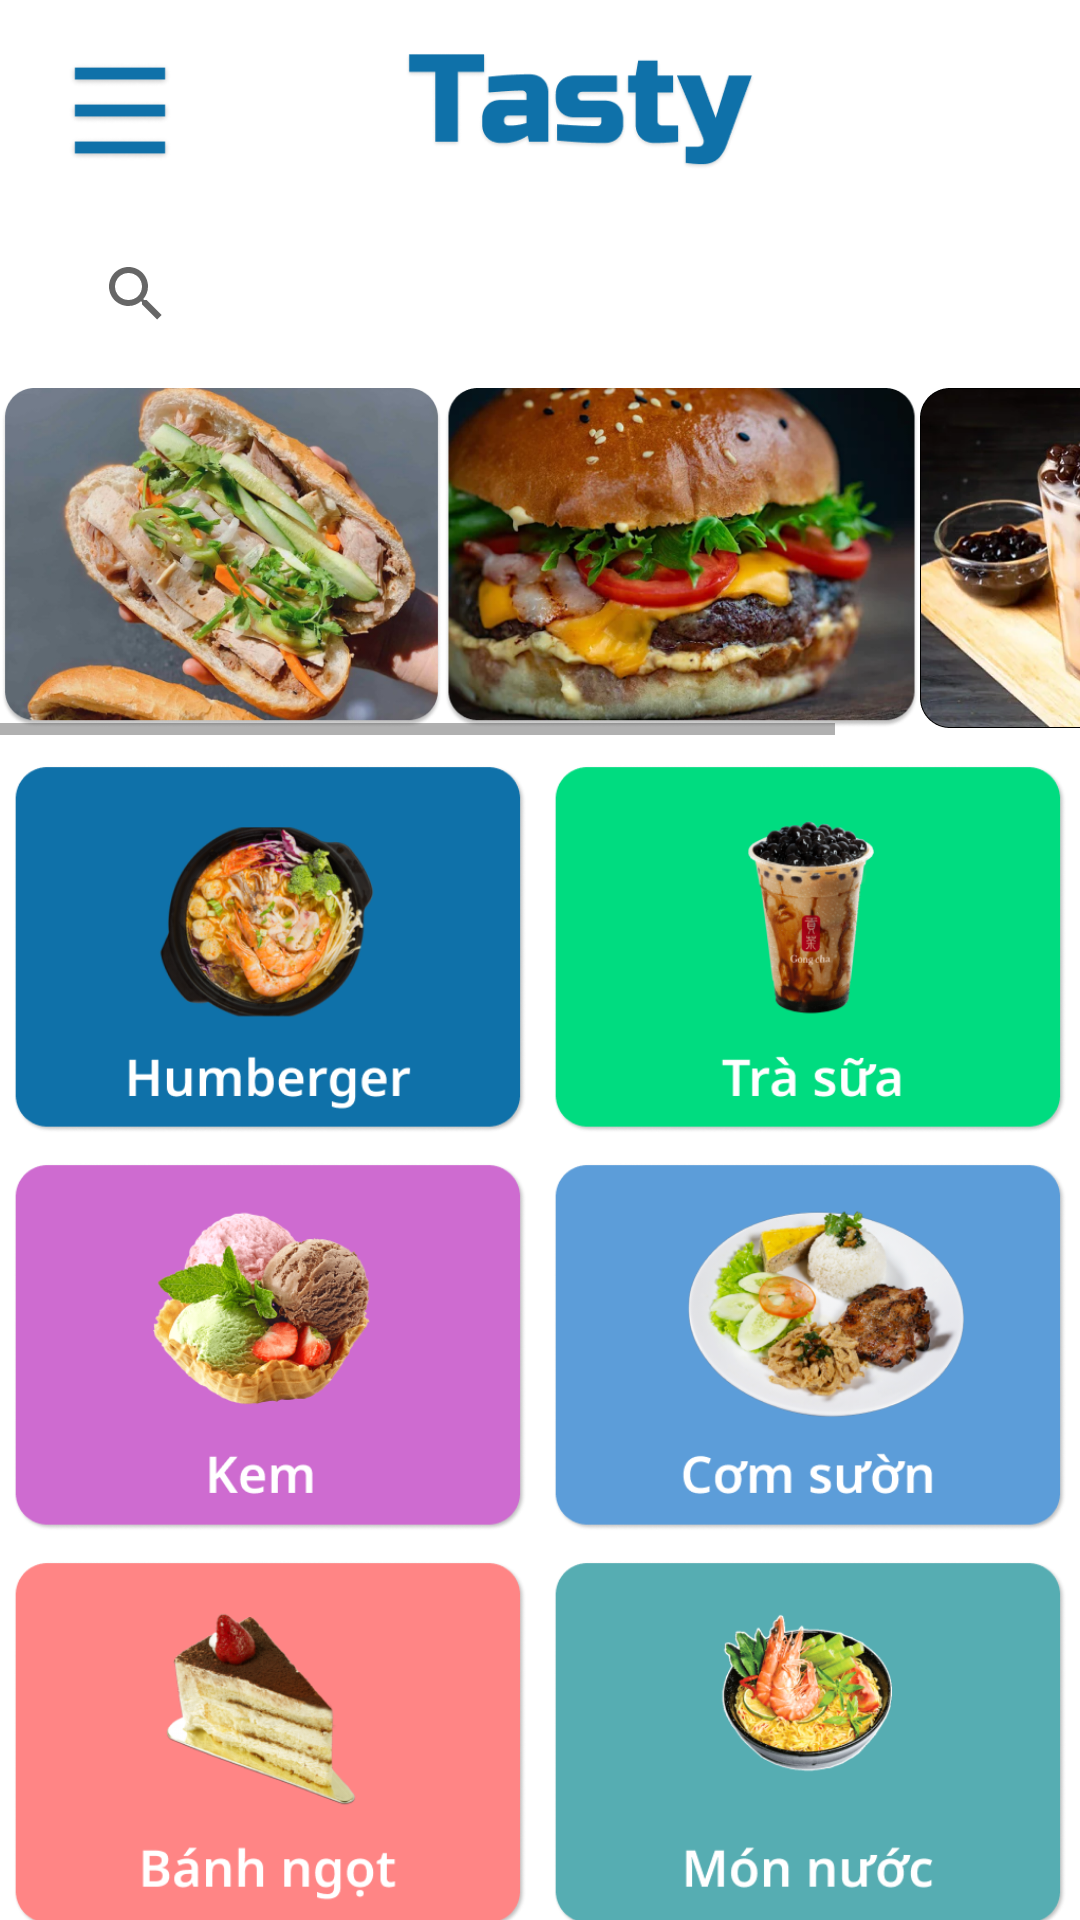

Icons on this 1080px x 1920px Android screen, each with the point to tap as (x=x, y=y):
menu: (x=120, y=111)
